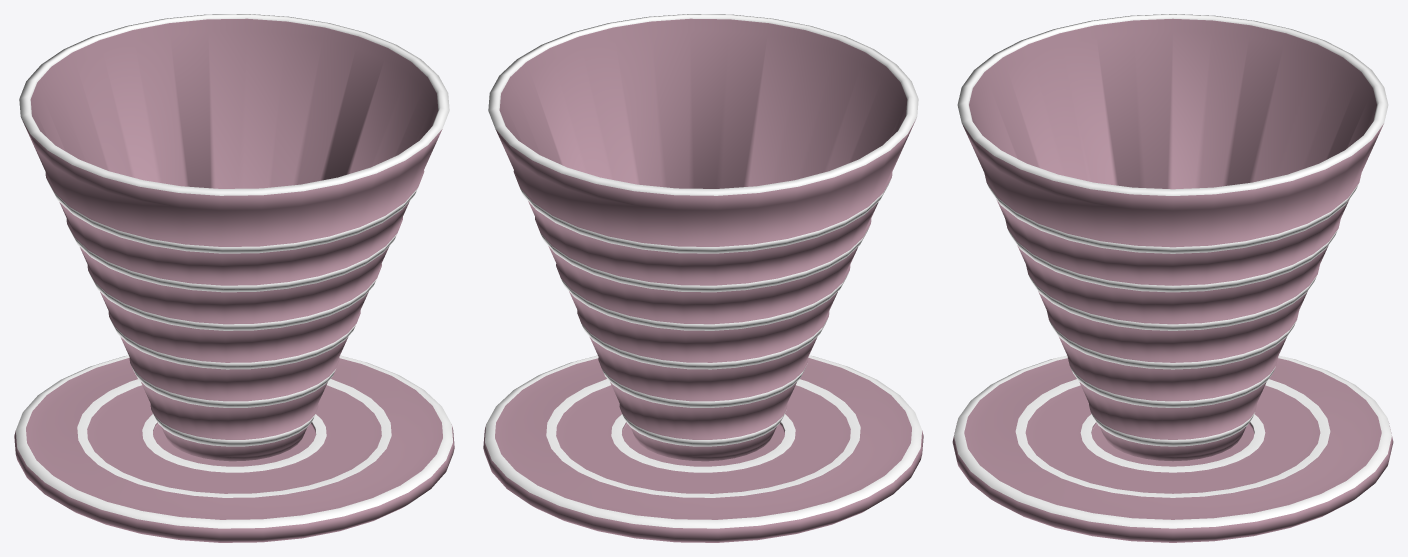
Rendered from eic0601.glb.
3 renders of one model, left to right at view 1: azimuth 30°, elevation 25°; view 2: azimuth 150°, elevation 25°; view 3: azimuth 270°, elevation 25°, orthographic.
Visible parts, largest first — view 1: Cylinder.001, Cylinder; view 2: Cylinder.001, Cylinder; view 3: Cylinder.001, Cylinder.
Boxes of the visible parts, x1,y1,x2,y2 form: Cylinder.001: (19,14,449,461); Cylinder: (14,355,454,542); Cylinder.001: (488,14,918,461); Cylinder: (483,355,923,542); Cylinder.001: (957,14,1388,461); Cylinder: (952,355,1393,542).
Size of the model in its own units: 0.088 by 0.0775 by 0.088.
